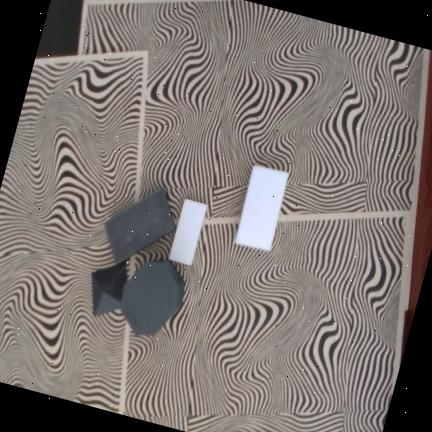Paralelepipedo: (104, 186, 176, 264), (234, 164, 289, 251), (168, 198, 207, 265)
Piramide: (91, 260, 127, 316)
Prisma_hexagonal: (120, 259, 184, 336)
